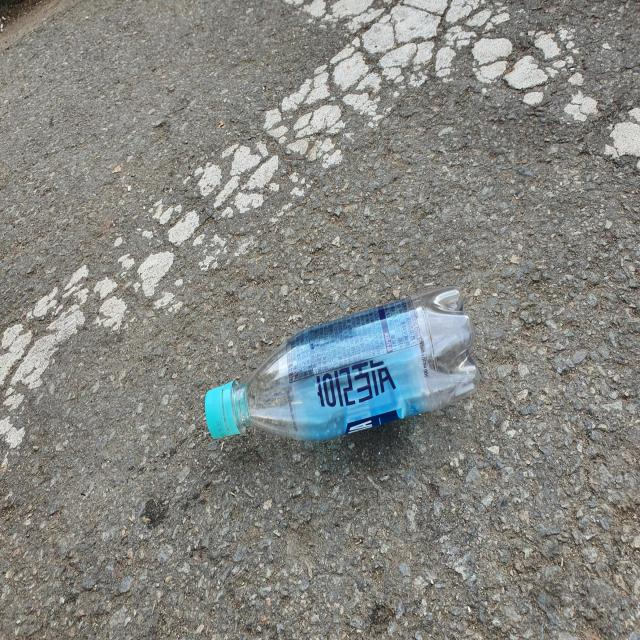plastic: (205, 287, 480, 441)
